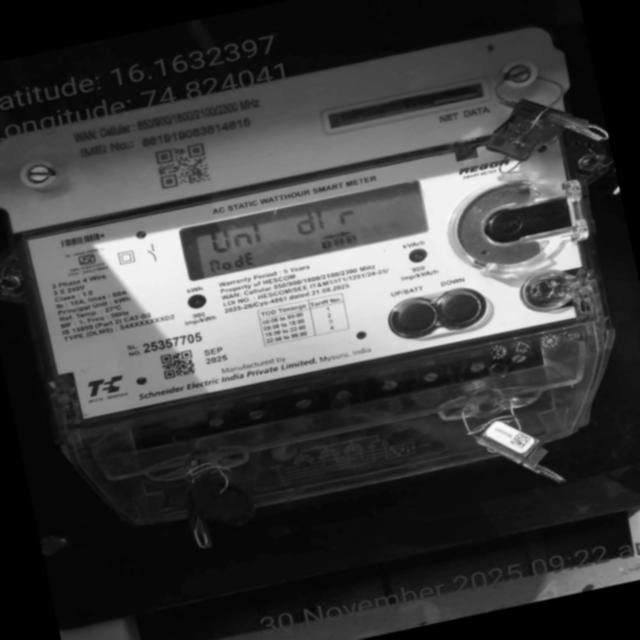meter: (0, 15, 621, 432)
